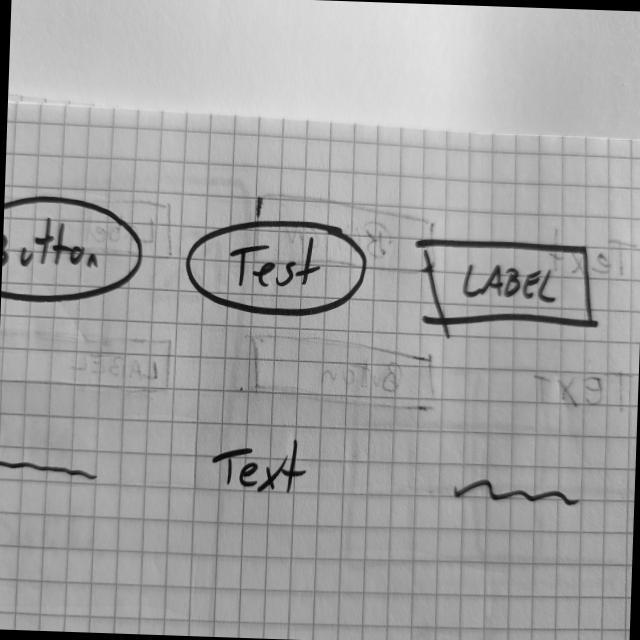button: (184, 215, 369, 322), (412, 232, 600, 334), (1, 190, 145, 308)
label: (206, 432, 312, 498)
text: (450, 474, 581, 515), (0, 456, 98, 489)
